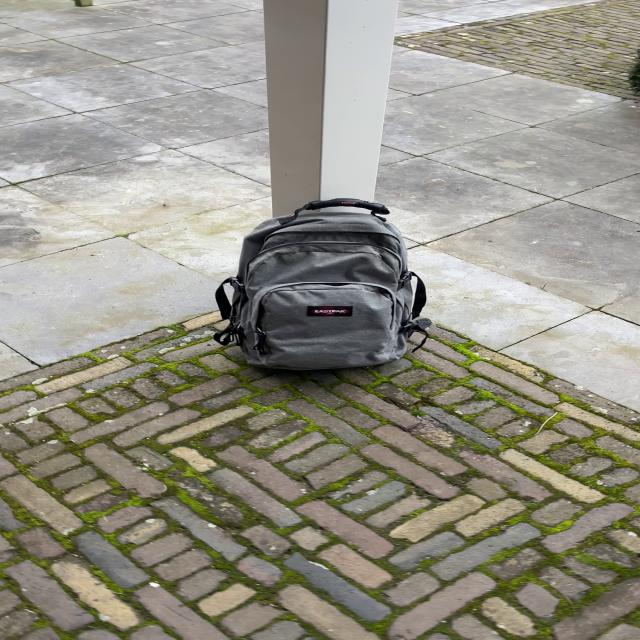backpack: (208, 192, 436, 381)
